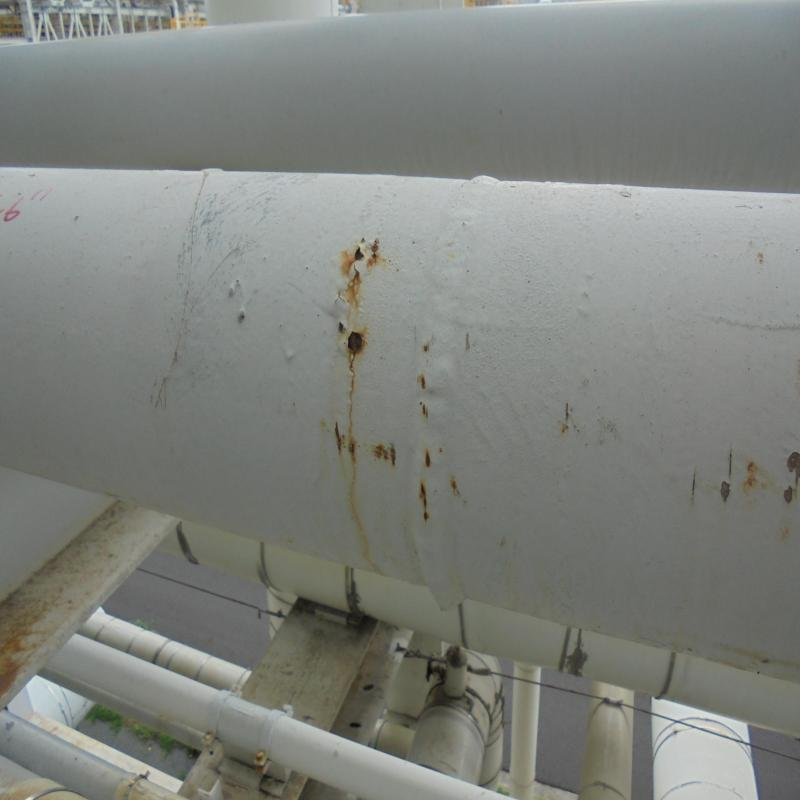corrosion: (349, 239, 372, 296), (334, 426, 357, 455), (346, 337, 366, 354), (380, 447, 396, 467)
